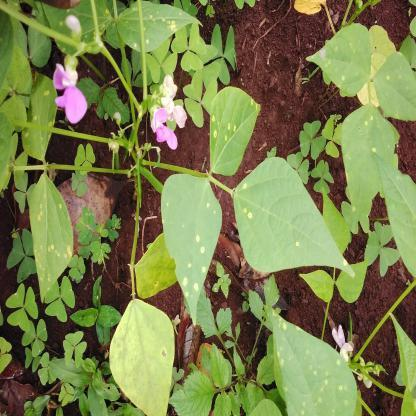Beans_Rust: (234, 160, 353, 271), (160, 169, 221, 329), (276, 309, 366, 414), (108, 293, 176, 416), (339, 105, 395, 225), (24, 182, 78, 306), (204, 87, 254, 176), (119, 1, 190, 50), (310, 27, 363, 91), (21, 75, 64, 150), (373, 57, 416, 122)
